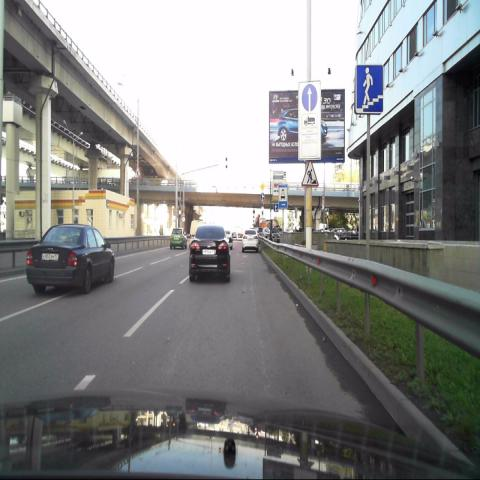1_25: (302, 162, 318, 187)
